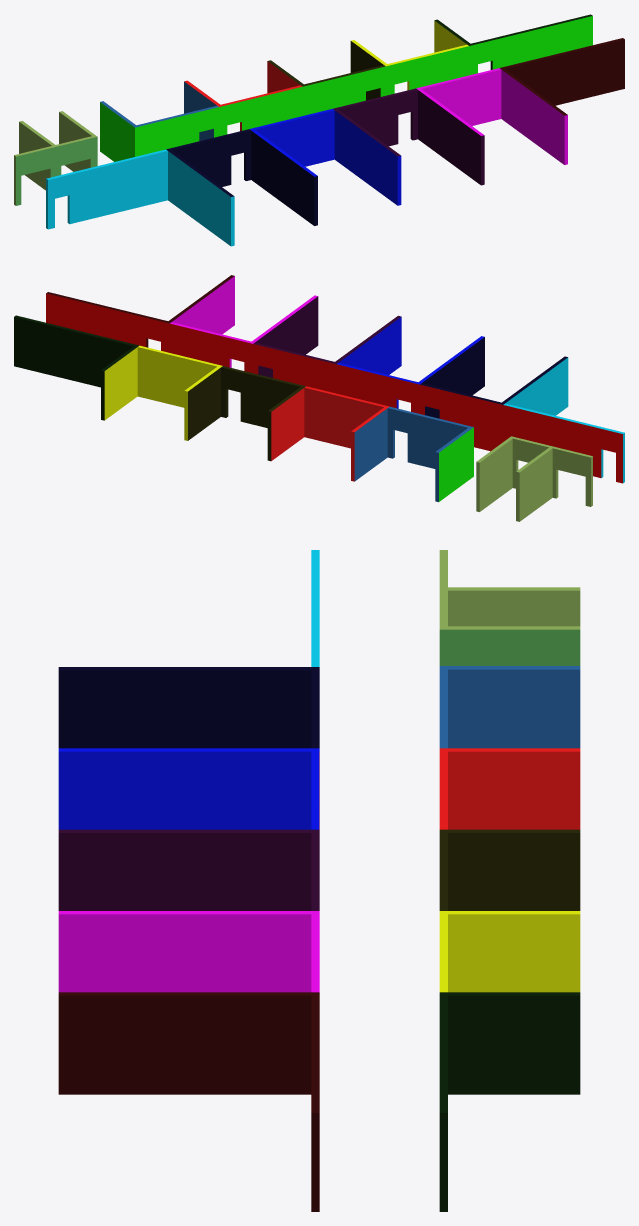
The model's file is BridgeInteriorWall.FBX.
The picture shows the model from 3 angles, top to bottom: view 1: azimuth 30°, elevation 25°; view 2: azimuth 150°, elevation 25°; view 3: azimuth 270°, elevation 25°; orthographic projection. The views are drawn at different scales.
Visible parts, largest first — view 1: BridgeInteriorWall; view 2: BridgeInteriorWall; view 3: BridgeInteriorWall.
Part boxes in pixels (x1,y1,x2,y2): BridgeInteriorWall: [14, 14, 624, 246]; BridgeInteriorWall: [14, 275, 624, 521]; BridgeInteriorWall: [58, 550, 580, 1211].
Bounding box in the file's own units: 4219 × 345 × 1651.
